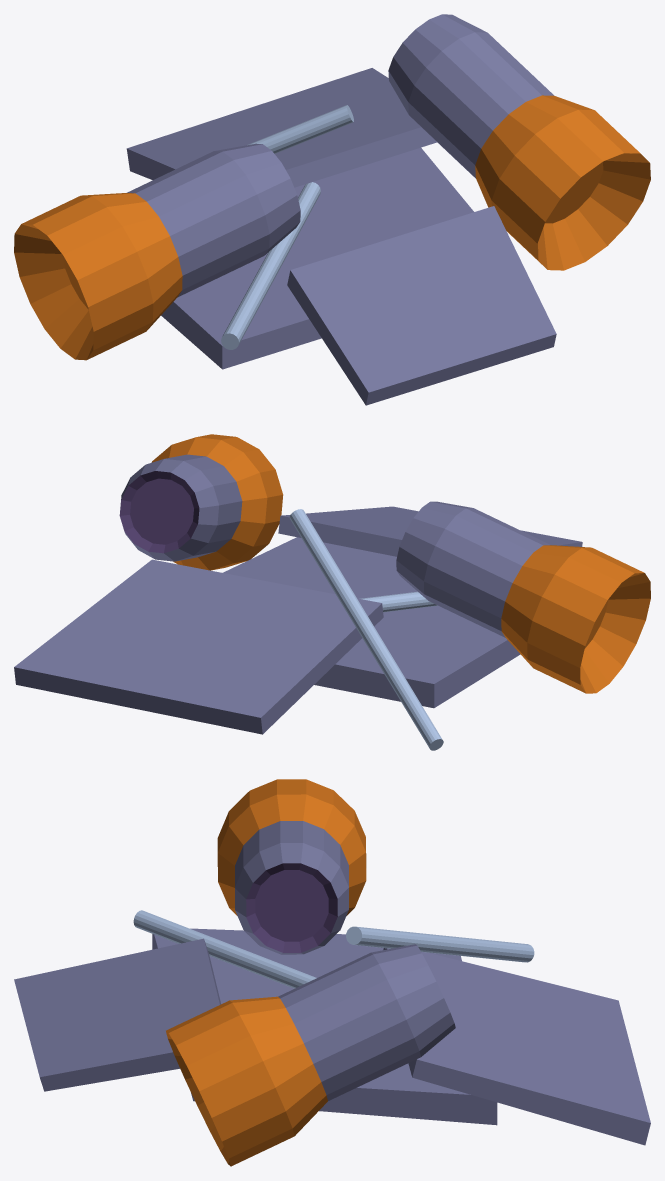
File: Materiales2.fbx
The picture shows the model from 3 angles, top to bottom: view 1: azimuth 30°, elevation 25°; view 2: azimuth 150°, elevation 25°; view 3: azimuth 270°, elevation 25°; orthographic projection. The views are drawn at different scales.
Visible parts, largest first — view 1: Cohete.002, Ala.003, TubosTecho.003; view 2: Ala.003, Cohete.002, TubosTecho.003; view 3: Ala.003, Cohete.002, TubosTecho.003.
Part boxes in pixels (x1,y1,x2,y2): Cohete.002: (14,14,650,360); Ala.003: (126,68,556,405); TubosTecho.003: (221,105,353,349); Ala.003: (14,506,582,734); Cohete.002: (119,434,650,693); TubosTecho.003: (289,509,443,750); Ala.003: (14,928,650,1145); Cohete.002: (166,779,455,1166); TubosTecho.003: (133,910,534,988).
Bounding box in the file's own units: 500 × 158 × 483.
